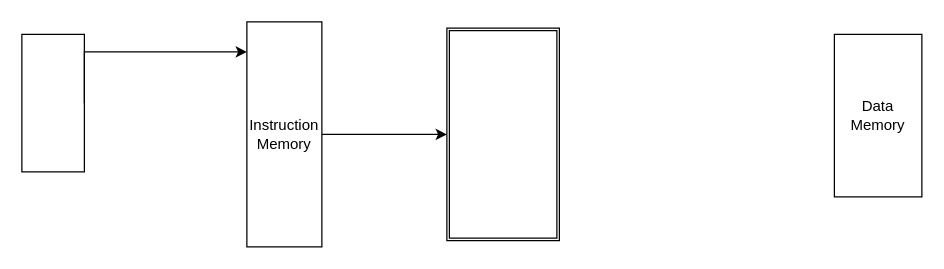
The diagram is 944 pixels wide and 269 high, and some of its shapes have lost their labels. Each missing label, with the centre of its shape:
"Control Unit" belongs at point (502, 134).
"PC" belongs at point (52, 102).
